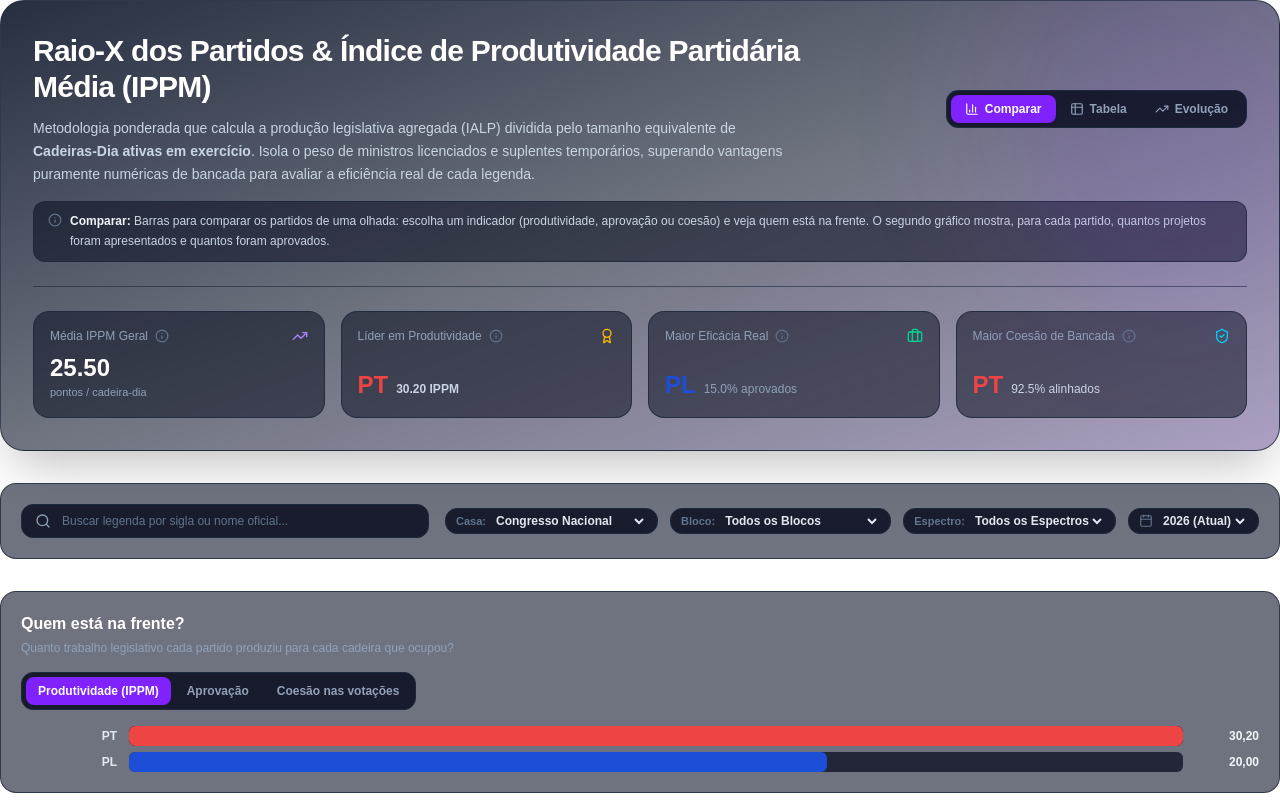
PartyProductivityExplorer Component › renderiza cabeçalho executivo, resumo geral e tabela de ranking por IPPM
Expected: the text "25.50" is shown, 50,354 -> 110,381
Click the tab "Tabela": {"x": 1098, "y": 109} 1056,95 -> 1141,123
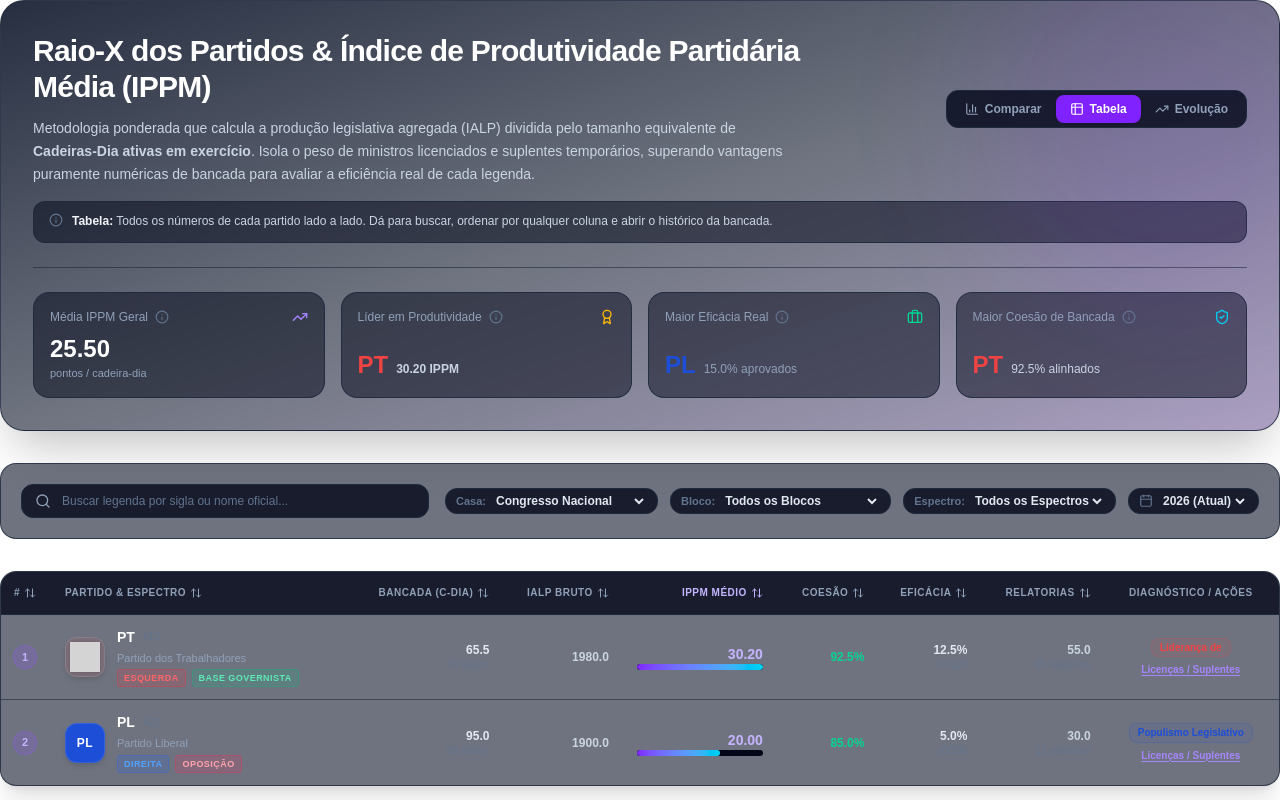
Expected: the heading "Raio-X dos Partidos & Índice de Produtividade Partidária Média" is shown, 33,34 -> 800,103
Expected: the text "30.20" is shown, 728,646 -> 763,662
